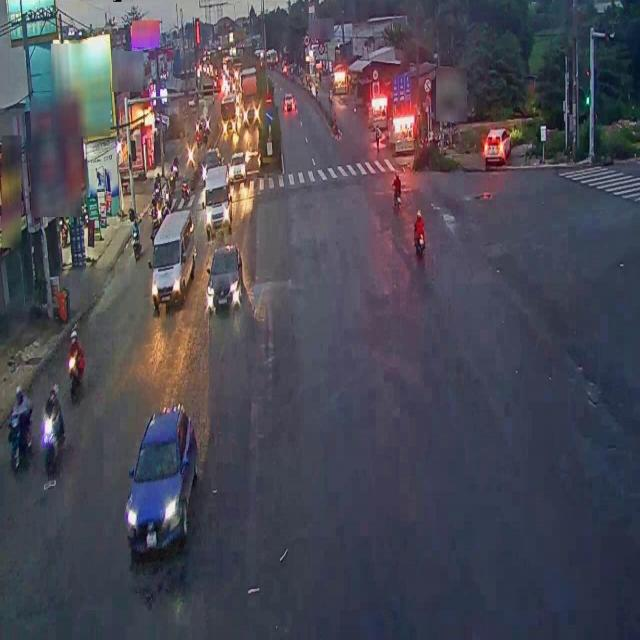car: (122, 406, 196, 553), (208, 245, 242, 317)
motorcycle: (40, 379, 65, 476), (9, 389, 33, 476), (64, 327, 86, 400)
truck: (150, 210, 196, 308)
